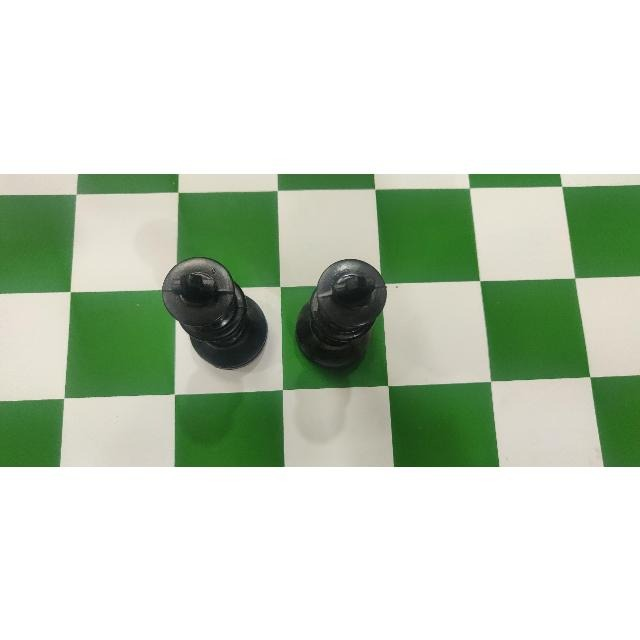black-king: (143, 256, 266, 378), (303, 254, 393, 384)
